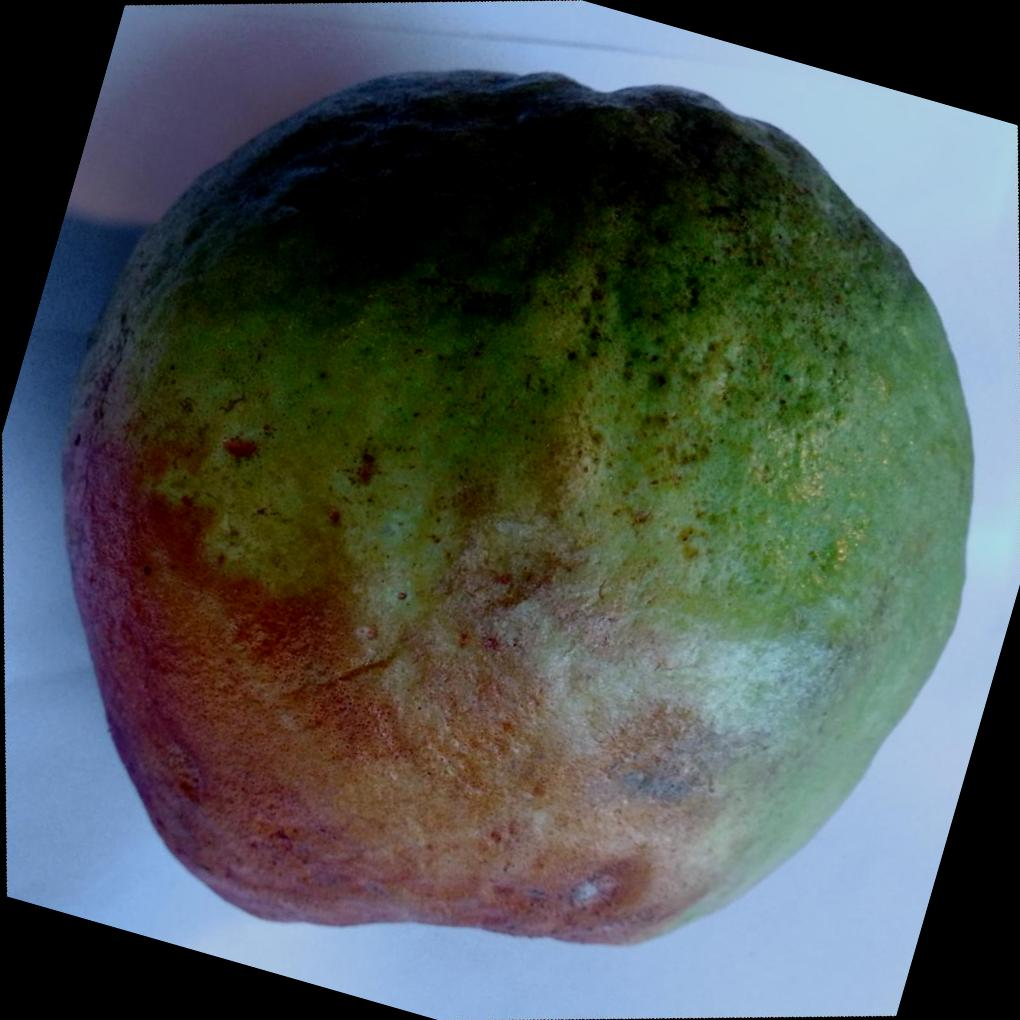FreshOrange: (58, 69, 975, 951)
